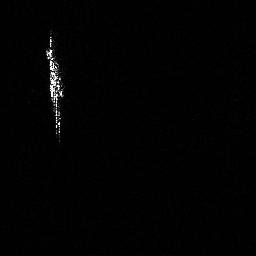ship: (43, 30, 67, 140)
